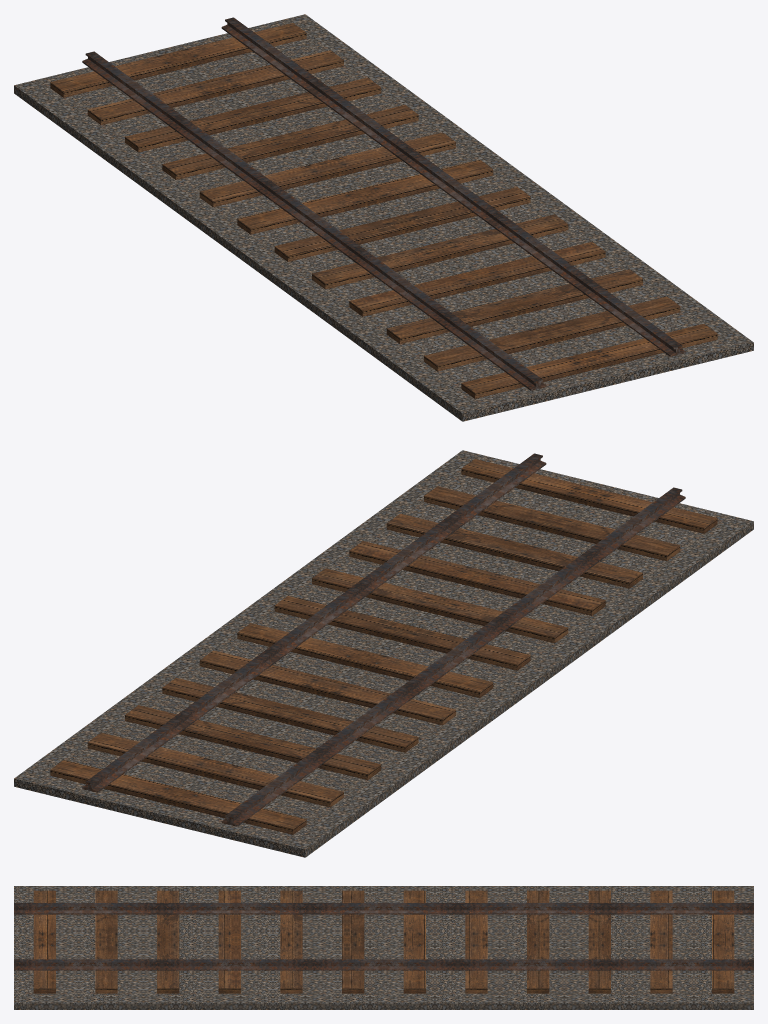
The model's file is track_segment.glb.
3 views of the same model, one above another, from view 1: azimuth 30°, elevation 25°; view 2: azimuth 150°, elevation 25°; view 3: azimuth 270°, elevation 25° (orthographic). The views are drawn at different scales.
Visible parts, largest first — view 1: ballast_bed, wooden_sleepers, rail_right, rail_left; view 2: ballast_bed, wooden_sleepers, rail_right, rail_left; view 3: ballast_bed, wooden_sleepers, rail_left, rail_right.
Boxes of the visible parts, x1,y1,x2,y2 form: ballast_bed: (14, 14, 753, 421); wooden_sleepers: (50, 23, 717, 398); rail_right: (221, 17, 685, 356); rail_left: (82, 51, 546, 390); ballast_bed: (14, 450, 753, 857); wooden_sleepers: (50, 459, 717, 834); rail_right: (82, 453, 546, 792); rail_left: (221, 487, 685, 826); ballast_bed: (14, 886, 753, 1009); wooden_sleepers: (33, 890, 734, 993); rail_left: (14, 903, 753, 914); rail_right: (14, 959, 753, 970).
Bounding box in the file's own units: 3 × 0.22 × 8.
4 materials, 4 textured.
